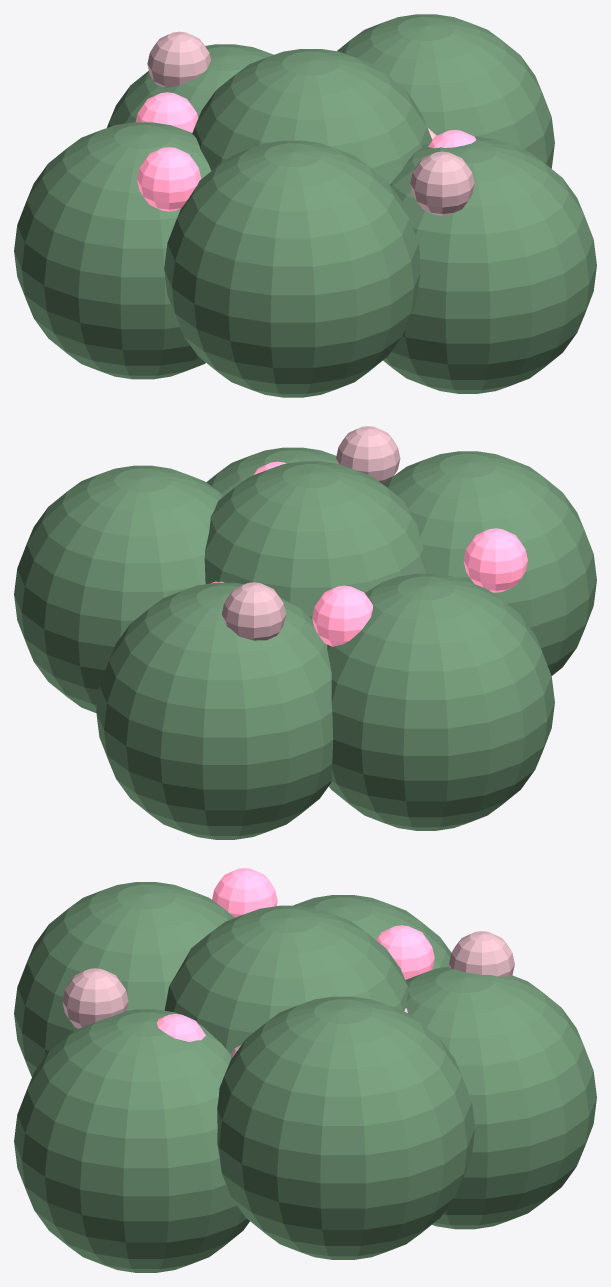
The model's file is azalea_bush.glb.
The picture shows the model from 3 angles, top to bottom: view 1: azimuth 30°, elevation 25°; view 2: azimuth 150°, elevation 25°; view 3: azimuth 270°, elevation 25°; orthographic projection. The views are drawn at different scales.
Visible parts, largest first — view 1: azalea_bush; view 2: azalea_bush; view 3: azalea_bush.
Part boxes in pixels (x1,y1,x2,y2): azalea_bush: [14, 14, 596, 397]; azalea_bush: [14, 426, 596, 839]; azalea_bush: [14, 868, 596, 1272].
Bounding box in the file's own units: 1.08 × 0.6 × 1.06.
